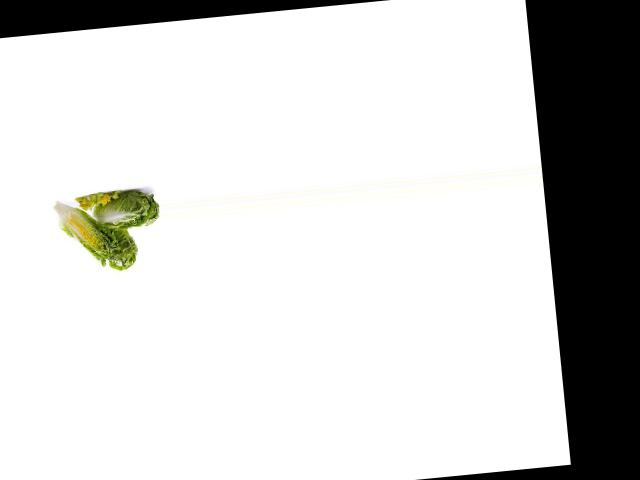lettuce: (83, 184, 159, 234)
